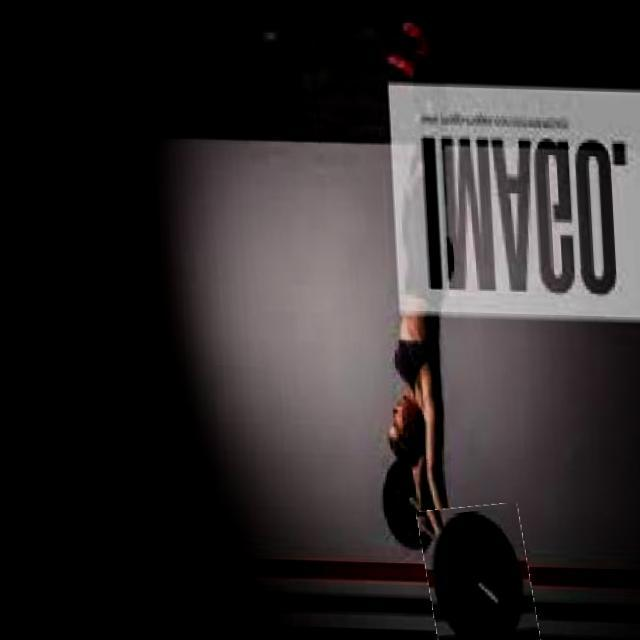barbell: (415, 502, 532, 640)
